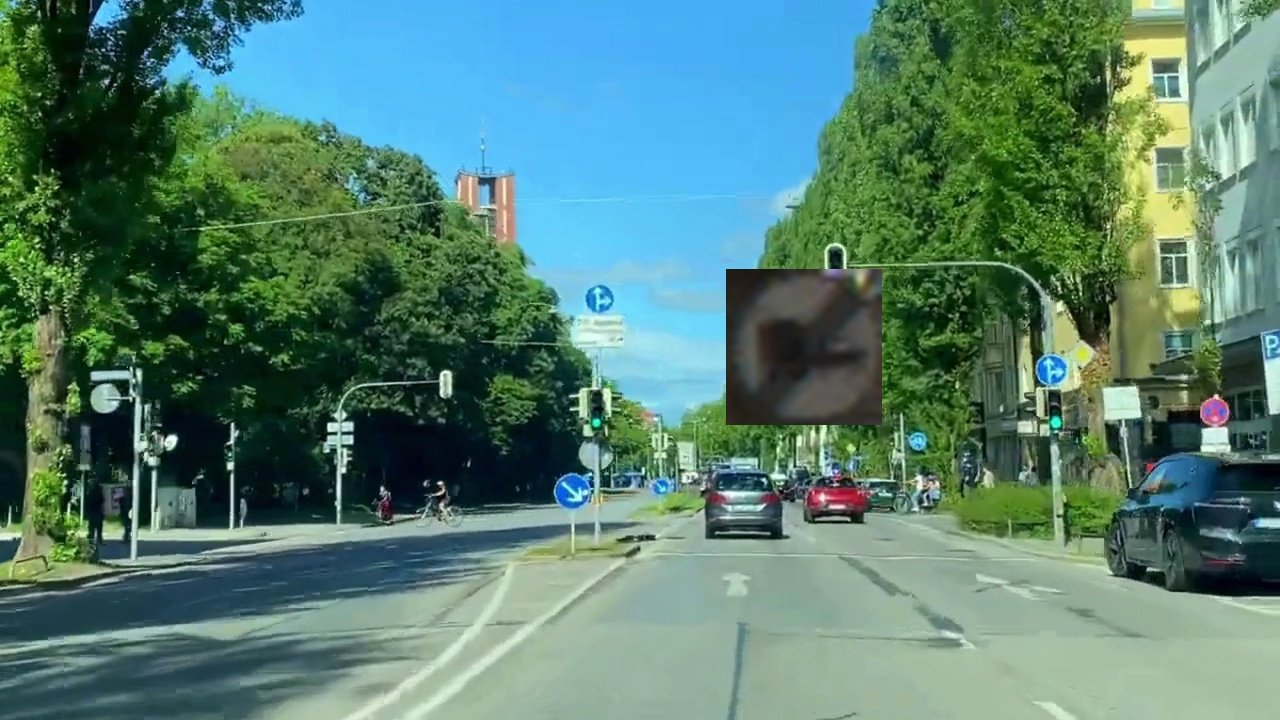End no pass >3.5t: (726, 269, 882, 425)
